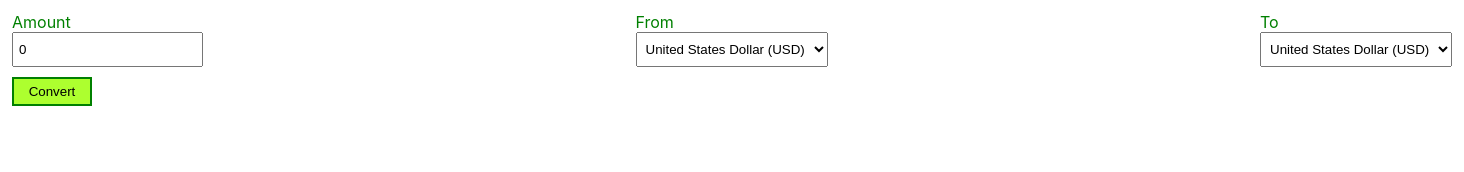
it: CurrencyConverter Component › performs currency conversion correctly
Replace the text in the number field with test id "amount" with "100" at (108, 50), box top-left (12, 32), bottom-right (203, 67)
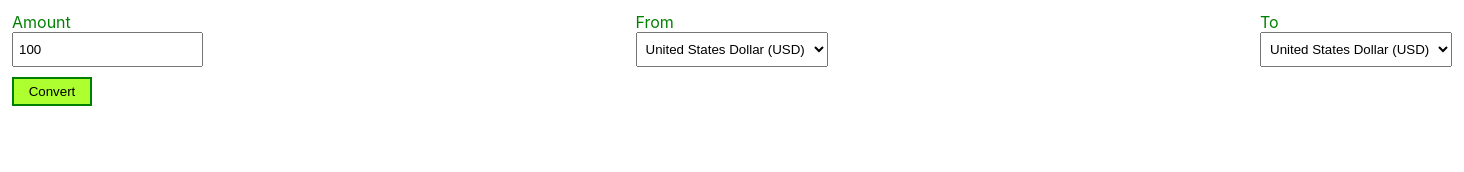
Select "United States Dollar (USD)" in the dropdown with test id "from-currency" at (732, 50), box top-left (636, 32), bottom-right (828, 67)
Select "Euro (EUR)" in the dropdown with test id "to-currency" at (1356, 50), box top-left (1260, 32), bottom-right (1452, 67)
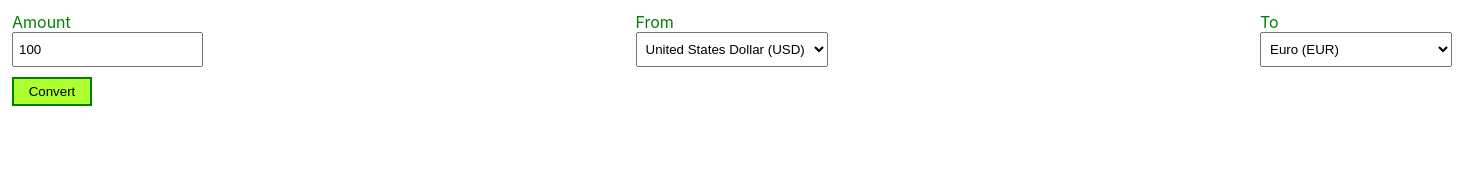
Click the button "Convert" at (52, 92), box top-left (12, 77), bottom-right (92, 106)
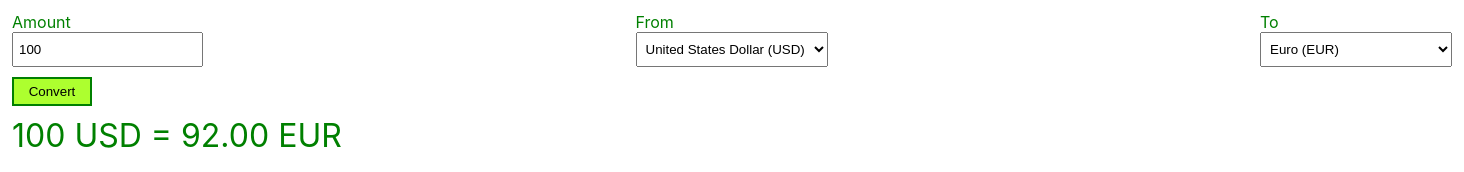
Now the text "100 USD = 92.00 EUR" is shown, box top-left (12, 116), bottom-right (342, 155)
